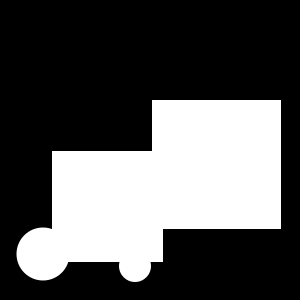circle: (152, 100, 281, 229), (52, 151, 163, 262)
rectangle: (17, 228, 70, 280), (119, 250, 151, 282)
